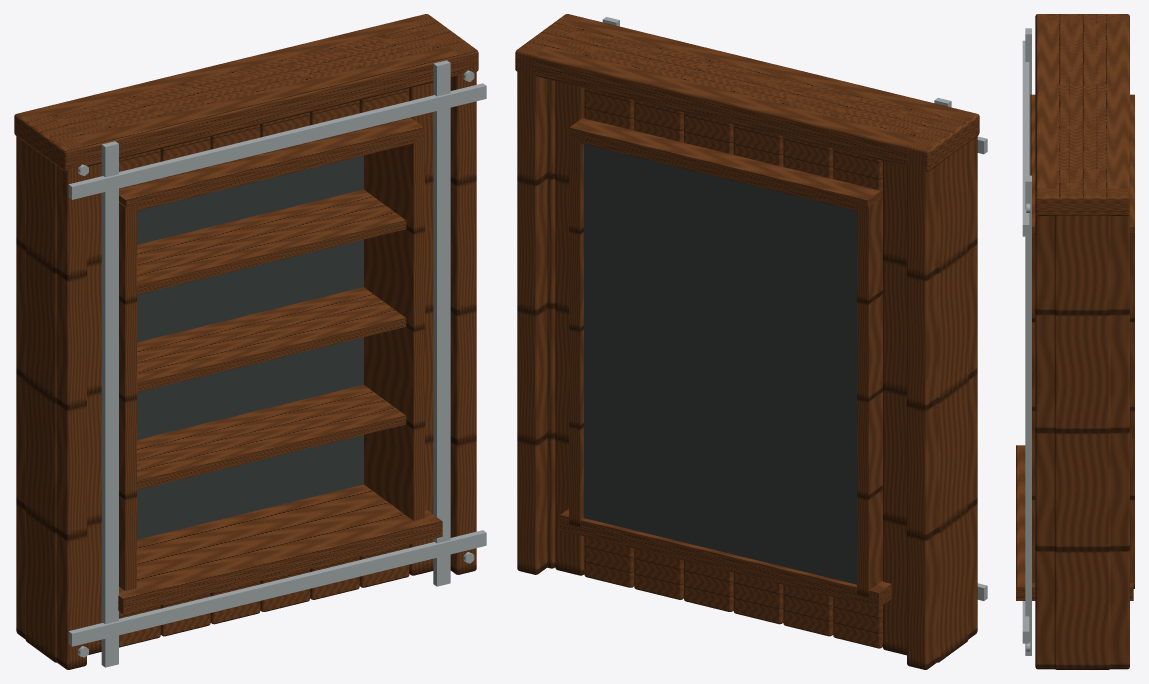
Rendered from modular-survival-base-builder-wall-inset-storage-reinf-6b01bd6d__24305.glb.
The picture shows the model from 3 angles, left to right: view 1: azimuth 30°, elevation 25°; view 2: azimuth 150°, elevation 25°; view 3: azimuth 270°, elevation 25°; orthographic projection. The views are drawn at different scales.
Visible parts, largest first — view 1: wall-inset-storage-reinforced; view 2: wall-inset-storage-reinforced; view 3: wall-inset-storage-reinforced.
Boxes of the visible parts, bbox=[...] form: wall-inset-storage-reinforced: bbox=[14, 14, 486, 669]; wall-inset-storage-reinforced: bbox=[515, 14, 987, 669]; wall-inset-storage-reinforced: bbox=[1016, 14, 1134, 669].
Bounding box in the file's own units: 2 × 2.4 × 0.5458.
3 materials, 1 textured.
